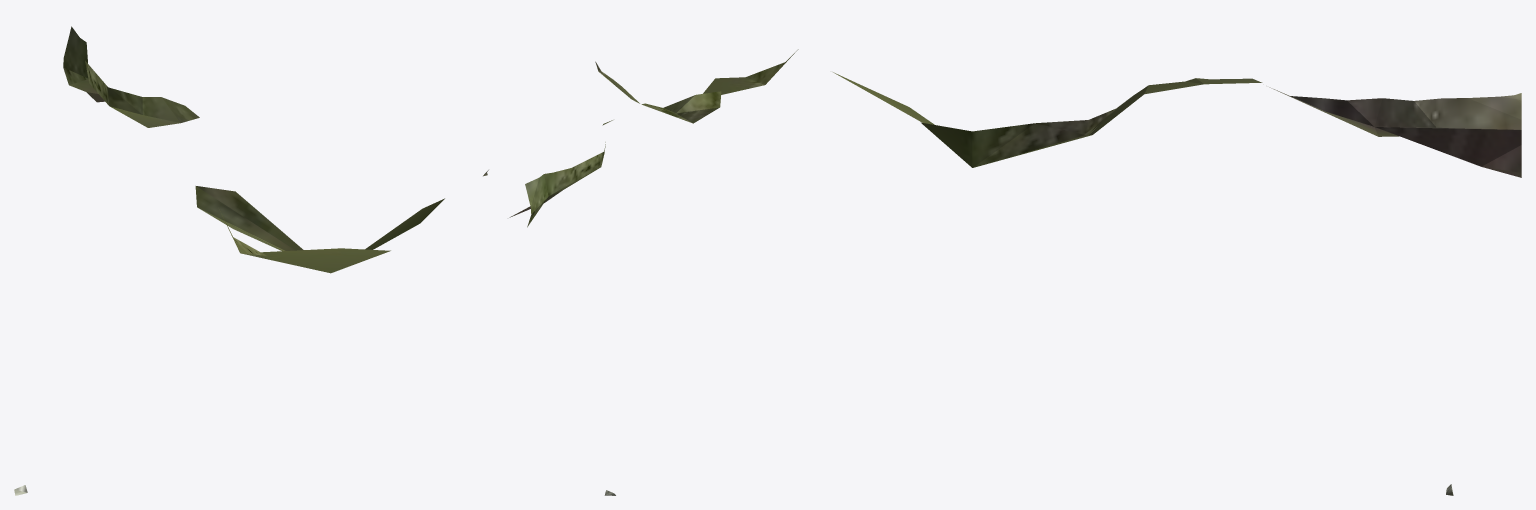
The picture shows the model from 3 angles, left to right: view 1: azimuth 30°, elevation 25°; view 2: azimuth 150°, elevation 25°; view 3: azimuth 270°, elevation 25°; orthographic projection. The views are drawn at different scales.
Bounding box in the file's own units: 0.7411 × 1.39 × 1.84.
1 material, 1 textured.
